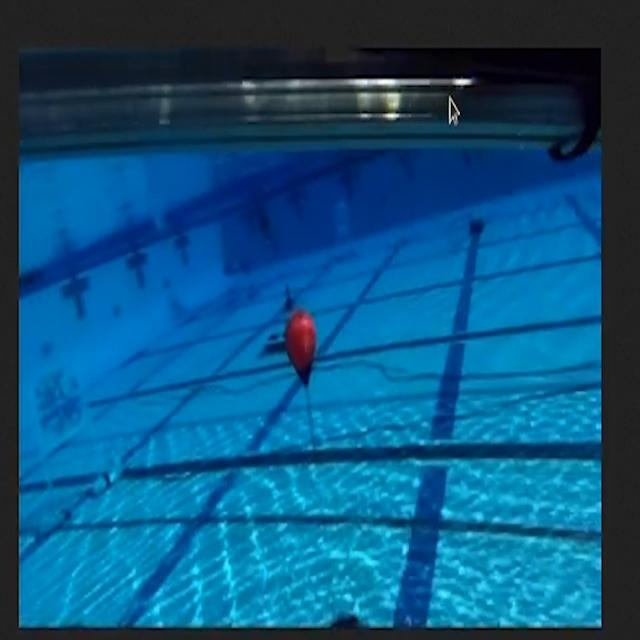Buoy: (283, 323, 324, 392)
